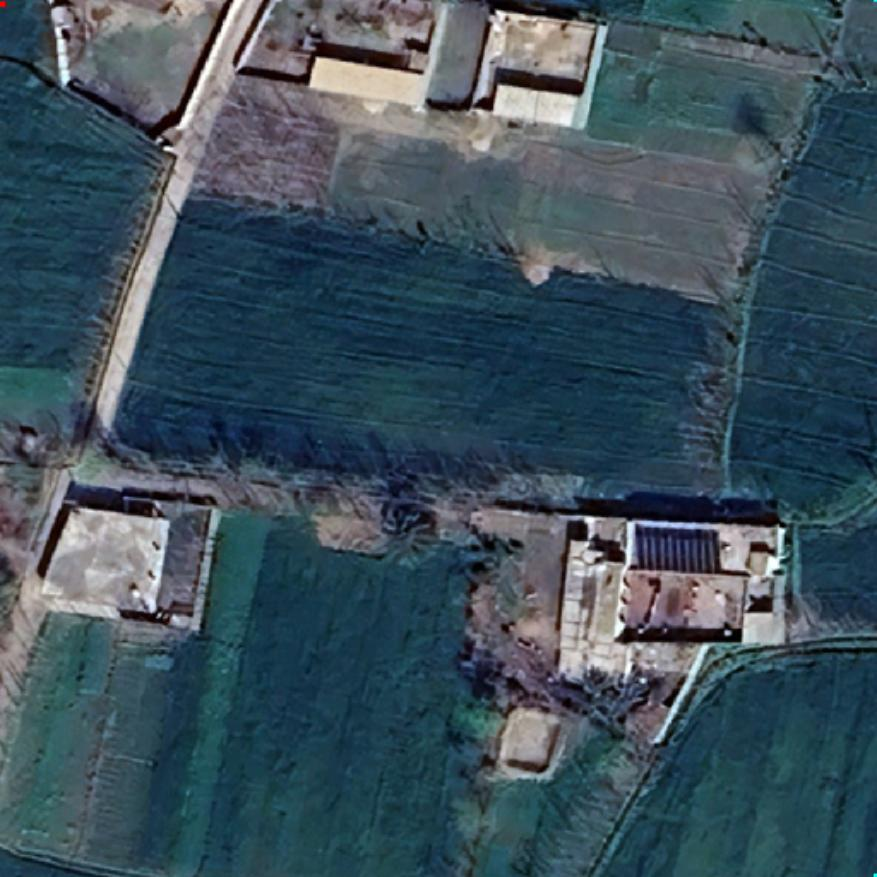Solarpanel: (630, 522, 726, 578)
